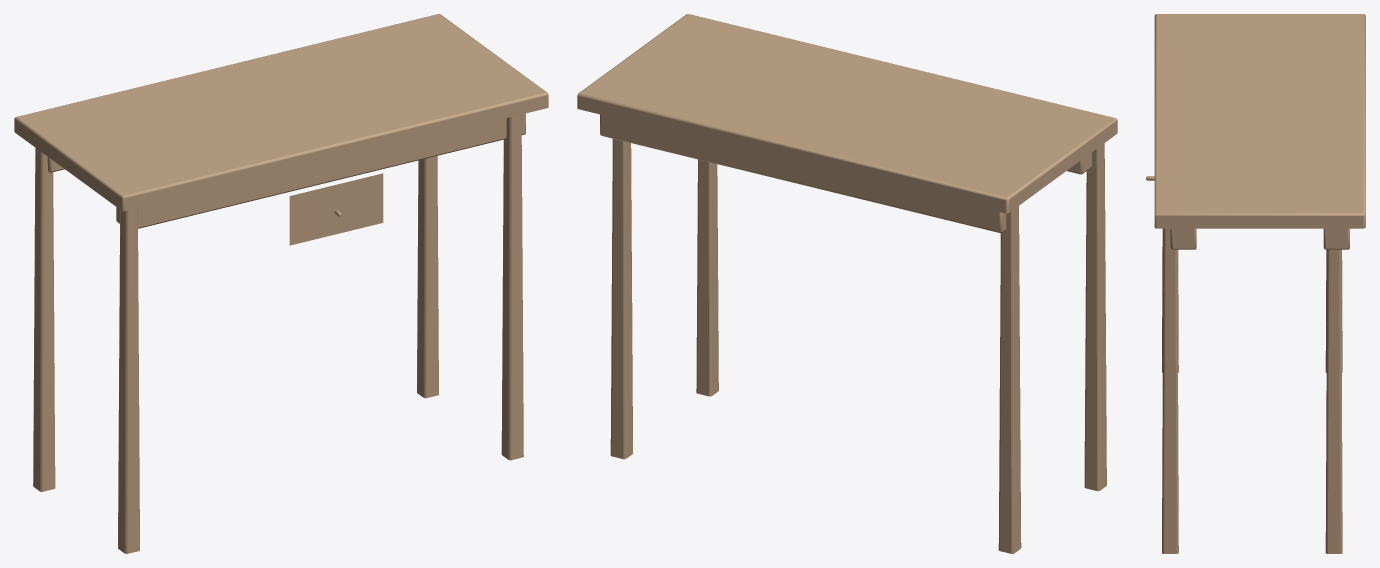
The model's file is BanTrangDiem.glb.
3 renders of one model, left to right at view 1: azimuth 30°, elevation 25°; view 2: azimuth 150°, elevation 25°; view 3: azimuth 270°, elevation 25°, orthographic. The views are drawn at different scales.
Visible parts, largest first — view 1: geometry_0; view 2: geometry_0; view 3: geometry_0.
Part boxes in pixels (left/top/right/bottom): geometry_0: left=14, top=14, right=548, bottom=553; geometry_0: left=577, top=14, right=1117, bottom=553; geometry_0: left=1146, top=14, right=1365, bottom=553.
Bounding box in the file's own units: 0.9 × 0.73 × 0.416.
